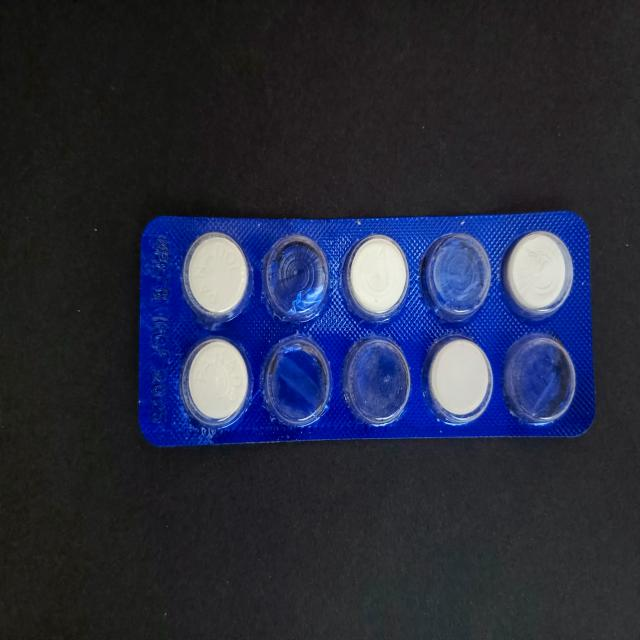defect: (501, 329, 579, 429), (259, 332, 335, 432), (419, 228, 493, 326), (260, 231, 332, 326), (342, 334, 414, 428)
